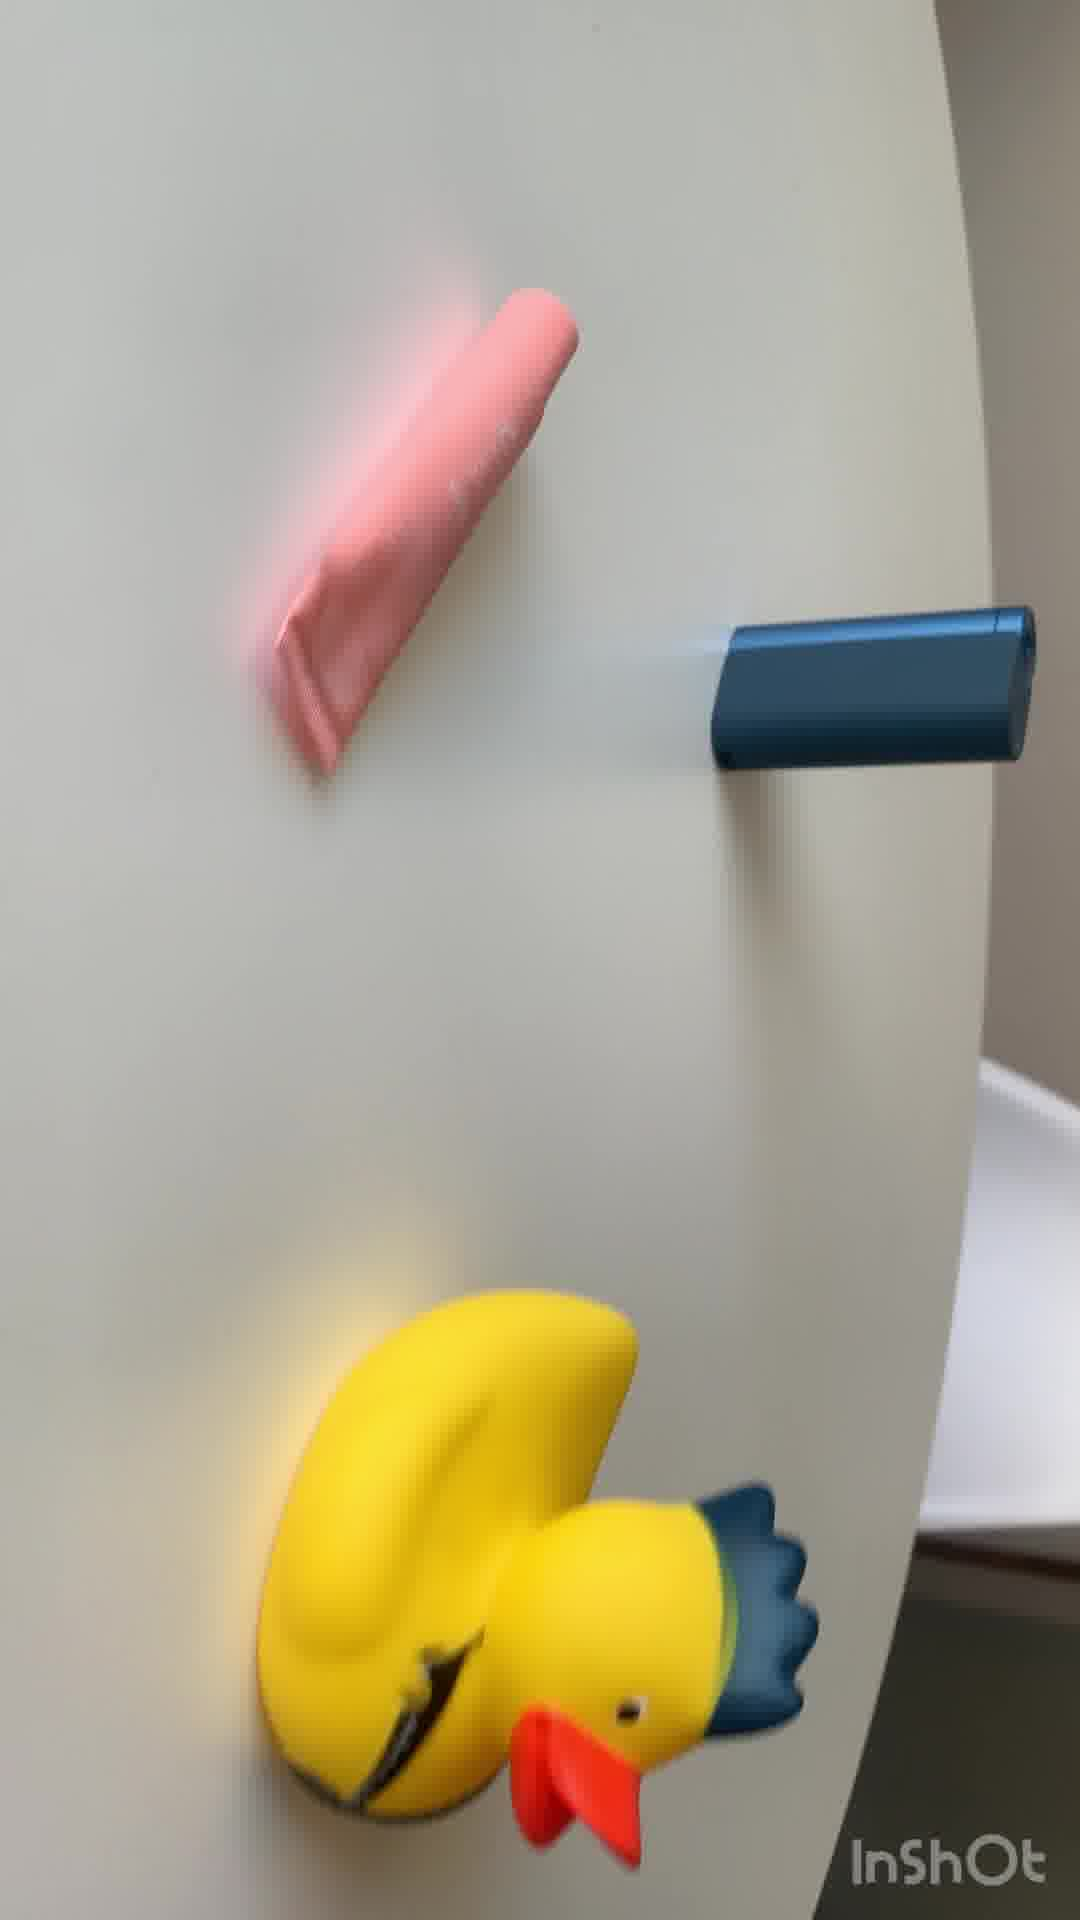duck: (247, 1298, 818, 1876)
glo: (709, 593, 1040, 793)
lip balm: (269, 269, 578, 800)
